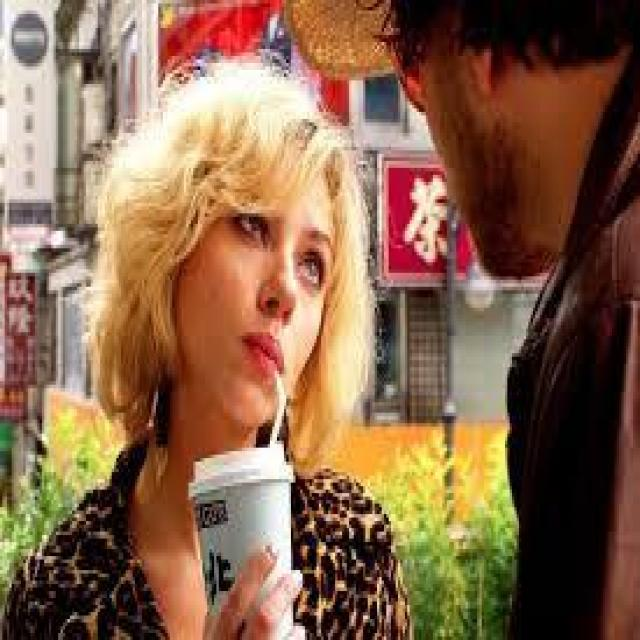person: (28, 56, 414, 636), (340, 0, 638, 616)
